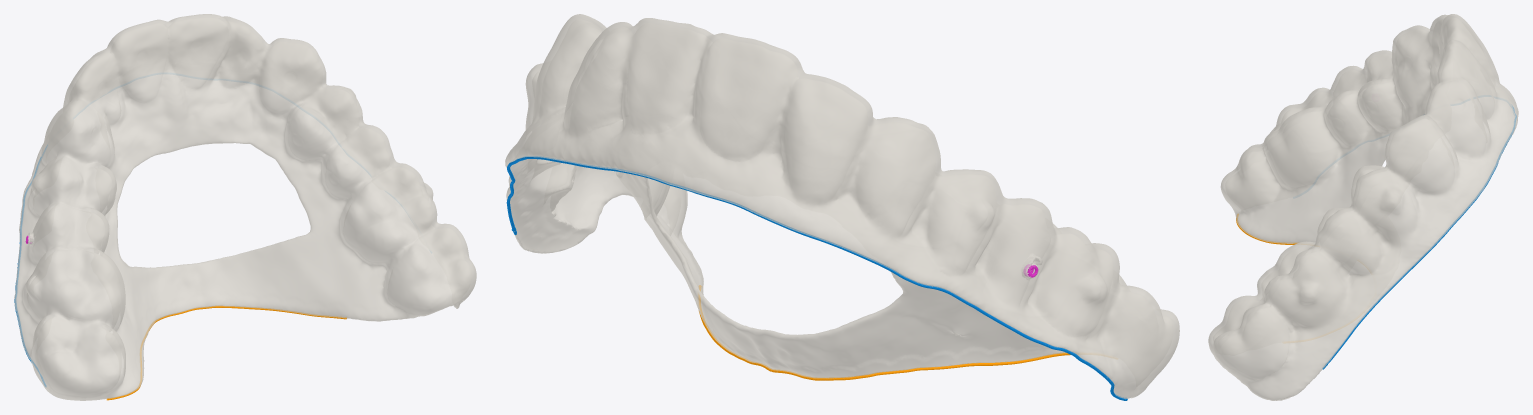
The model's file is detected-edge-candidates.glb.
The picture shows the model from 3 angles, left to right: view 1: azimuth 30°, elevation 25°; view 2: azimuth 150°, elevation 25°; view 3: azimuth 270°, elevation 25°; orthographic projection. The views are drawn at different scales.
Parts seen in each view (by area): view 1: Neutral reference aligner, ORANGE: smaller open partial sharp edge candidate, BLUE: large open full-arch sharp edge candidate; view 2: Neutral reference aligner, BLUE: large open full-arch sharp edge candidate, ORANGE: smaller open partial sharp edge candidate; view 3: Neutral reference aligner, BLUE: large open full-arch sharp edge candidate.
Part boxes in pixels (x1,y1,x2,y2): Neutral reference aligner: (14, 14, 476, 400); ORANGE: smaller open partial sharp edge candidate: (106, 306, 346, 400); BLUE: large open full-arch sharp edge candidate: (14, 145, 47, 386); Neutral reference aligner: (505, 14, 1179, 398); BLUE: large open full-arch sharp edge candidate: (506, 156, 1127, 400); ORANGE: smaller open partial sharp edge candidate: (699, 285, 1070, 380); Neutral reference aligner: (1208, 14, 1518, 400); BLUE: large open full-arch sharp edge candidate: (1322, 106, 1516, 369).
Bounding box in the file's own units: 67.79 × 40.54 × 42.41.
